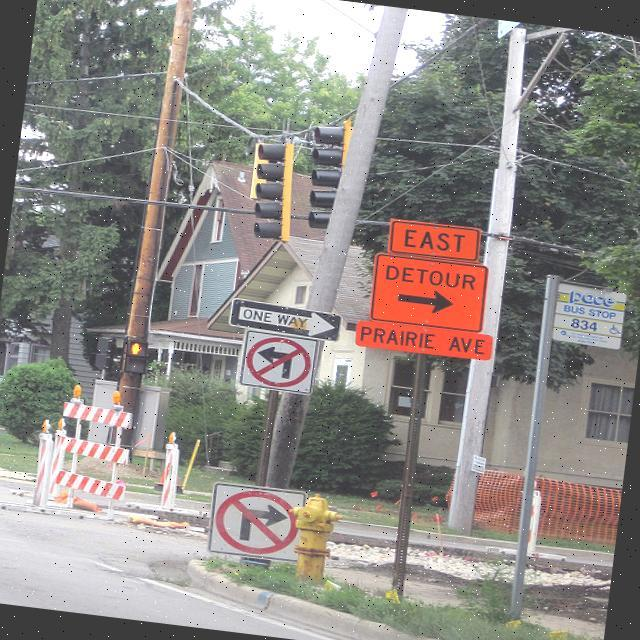fire_hydrant: (280, 490, 344, 584)
